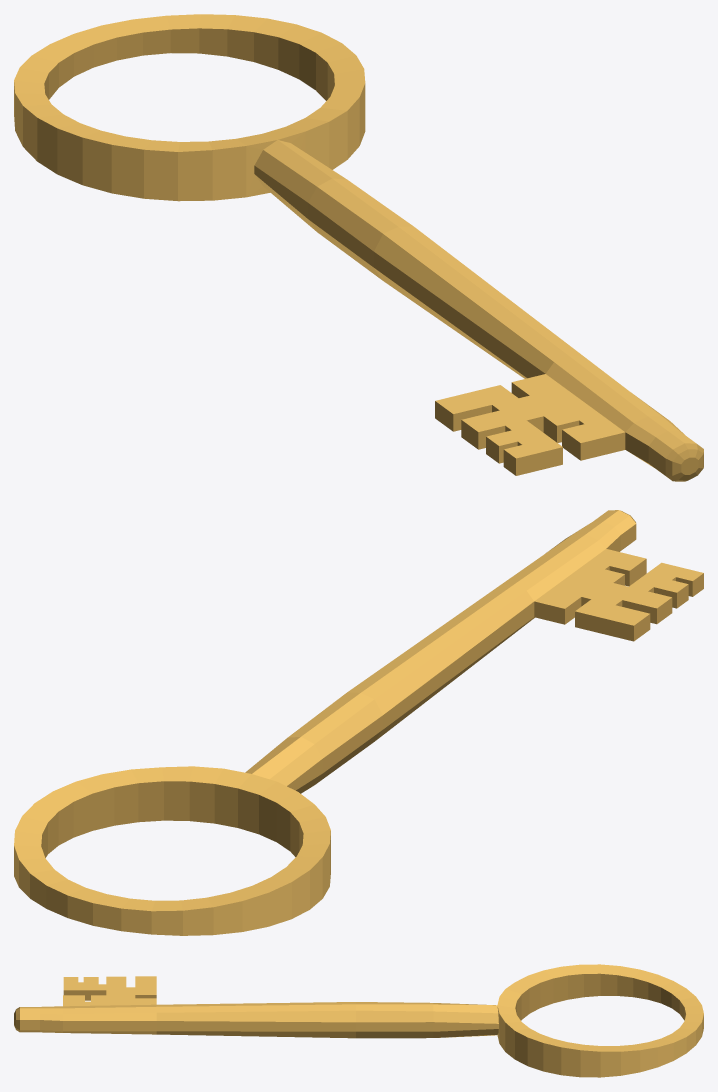
The model's file is key.fbx.
The picture shows the model from 3 angles, top to bottom: view 1: azimuth 30°, elevation 25°; view 2: azimuth 150°, elevation 25°; view 3: azimuth 270°, elevation 25°; orthographic projection. The views are drawn at different scales.
Parts seen in each view (by area): view 1: Plane; view 2: Plane; view 3: Plane.
Boxes of the visible parts, x1,y1,x2,y2 form: Plane: (14, 14, 703, 481); Plane: (14, 510, 703, 935); Plane: (14, 964, 703, 1077).
Size of the model in its own units: 0.0325 by 0.1087 by 0.00548.
Materials: 1 (1 with a texture image).
